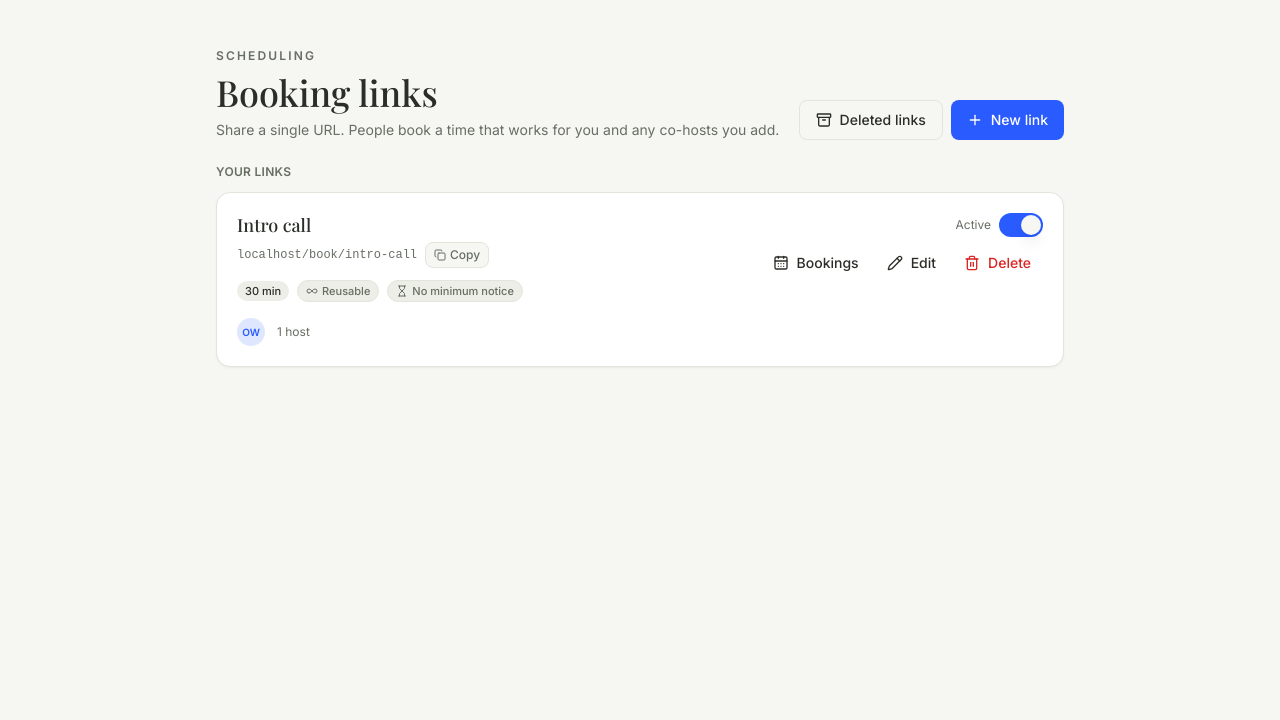
Test: PAC-40 Links page › cancel deletes nothing
What coordinates should you click on to do the following:
click the button with aria-label "Delete Intro call"
I would click on:
 (998, 263)
Its box is [952,245,1043,281].
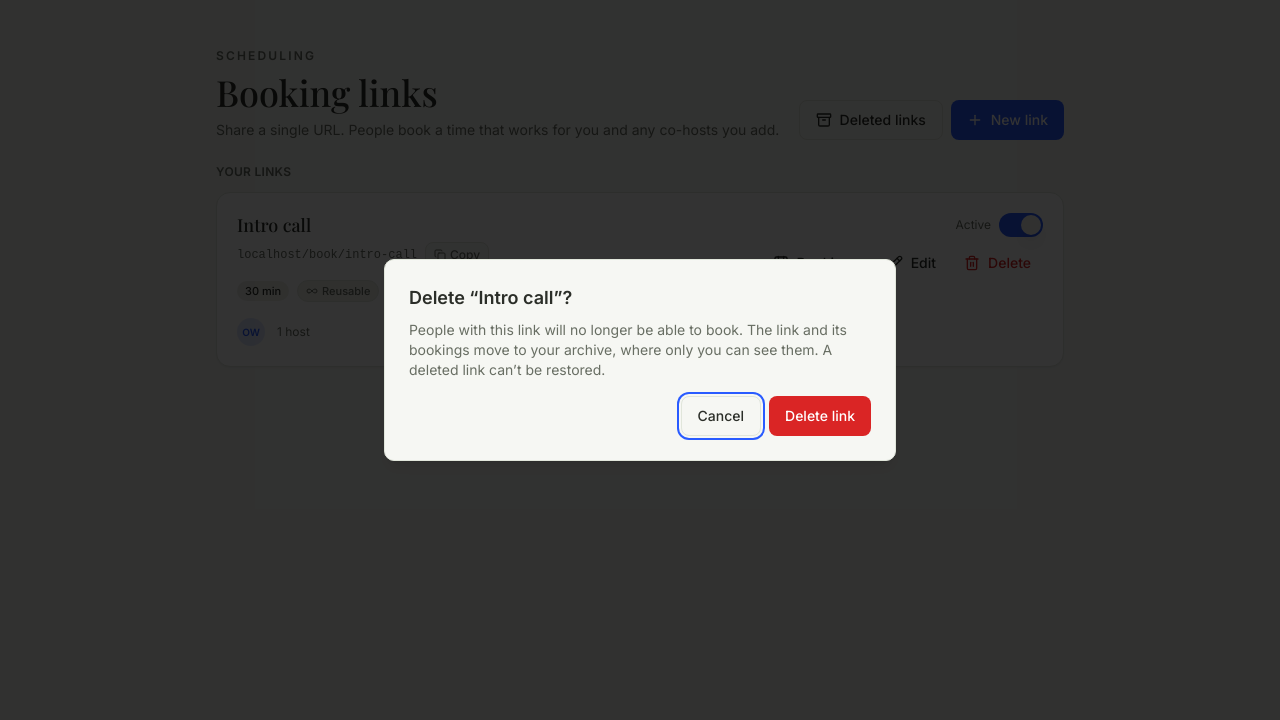
What coordinates should you click on to do the following:
click the button with test id "link-delete-cancel"
I would click on:
 (721, 416)
Its box is [680,396,761,436].
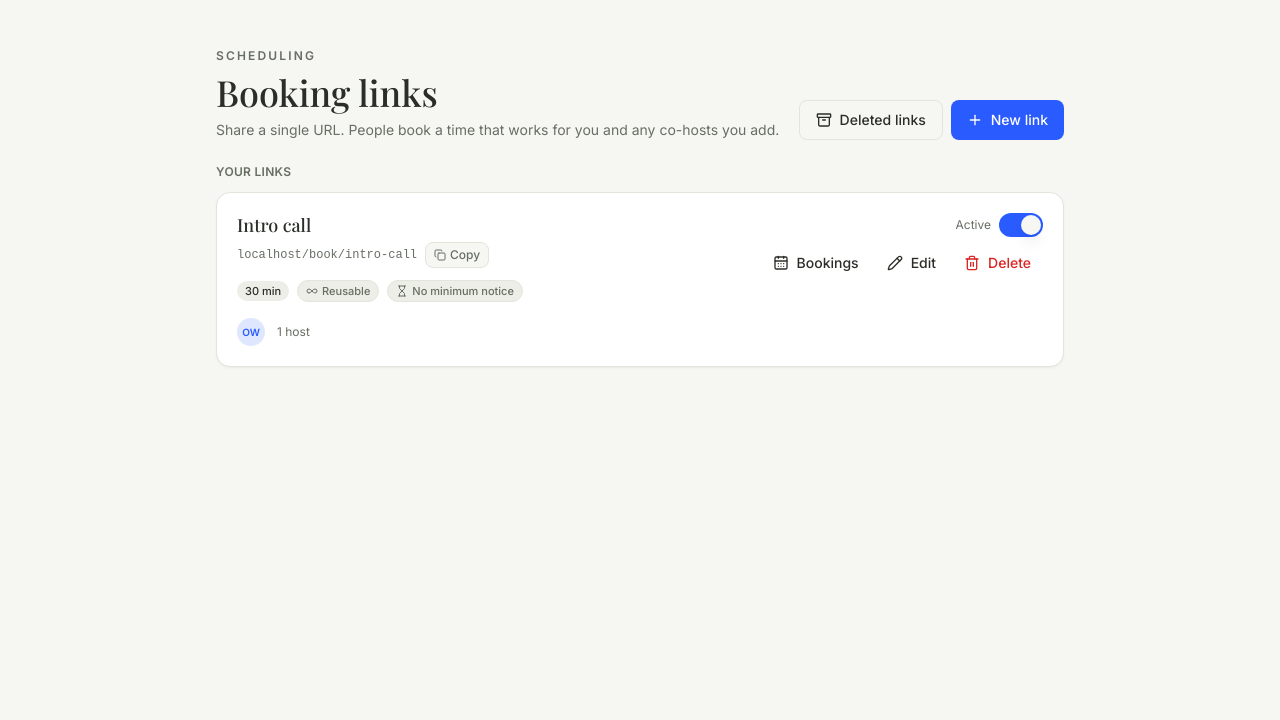
Expected: the element with test id "link-row-intro-call" is shown, [216,192,1064,367]
Result: the dialog with test id "link-delete-dialog" is gone
